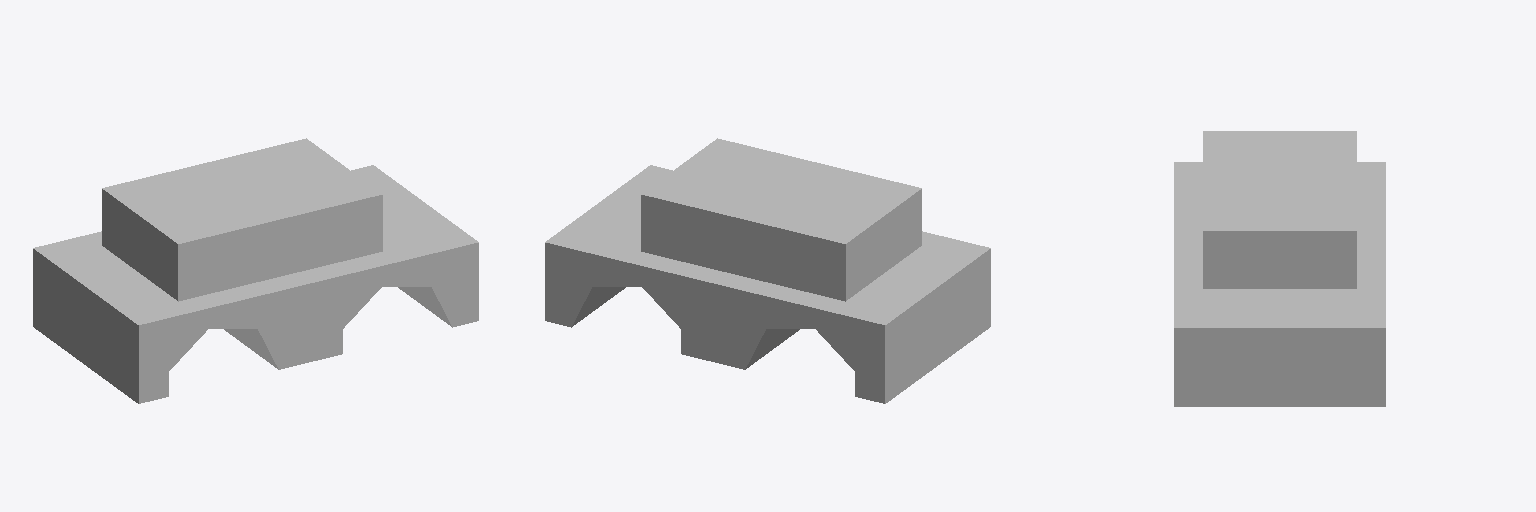
File: auto.obj
The picture shows the model from 3 angles: view 1: azimuth 30°, elevation 25°; view 2: azimuth 150°, elevation 25°; view 3: azimuth 270°, elevation 25°; orthographic projection.
Parts seen in each view (by area): view 1: Boole Null Cube, Boole Null Cube_1, Boole Null1 Cylinder, Boole Null1 Cylinder1; view 2: Boole Null Cube, Boole Null Cube_1, Boole Null1 Cylinder, Boole Null1 Cylinder1; view 3: Boole Null Cube, Boole Null Cube_1.
Part boxes in pixels (left/top/right/bottom): Boole Null Cube: left=33, top=165, right=478, bottom=403; Boole Null Cube_1: left=102, top=138, right=382, bottom=301; Boole Null1 Cylinder: left=224, top=329, right=278, bottom=369; Boole Null1 Cylinder1: left=398, top=287, right=451, bottom=326; Boole Null Cube: left=545, top=165, right=990, bottom=403; Boole Null Cube_1: left=641, top=138, right=921, bottom=301; Boole Null1 Cylinder: left=745, top=329, right=799, bottom=369; Boole Null1 Cylinder1: left=572, top=287, right=625, bottom=326; Boole Null Cube: left=1174, top=162, right=1385, bottom=406; Boole Null Cube_1: left=1203, top=131, right=1356, bottom=288.
Bounding box in the file's own units: 282 × 107 × 151.